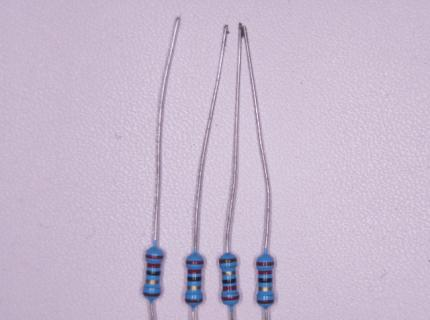Black band: (146, 270, 161, 276), (222, 278, 237, 284), (258, 277, 273, 283), (187, 276, 201, 281)
Brown band: (219, 257, 237, 264), (184, 298, 203, 303), (143, 292, 161, 297), (257, 300, 275, 304)
Gold band: (258, 287, 273, 292), (145, 279, 159, 284), (187, 286, 201, 290), (222, 271, 236, 275)
Red band: (221, 295, 239, 301), (146, 254, 164, 259), (223, 285, 237, 291), (256, 262, 274, 266), (147, 263, 161, 268), (188, 269, 202, 274), (258, 270, 272, 275), (186, 261, 204, 264)
